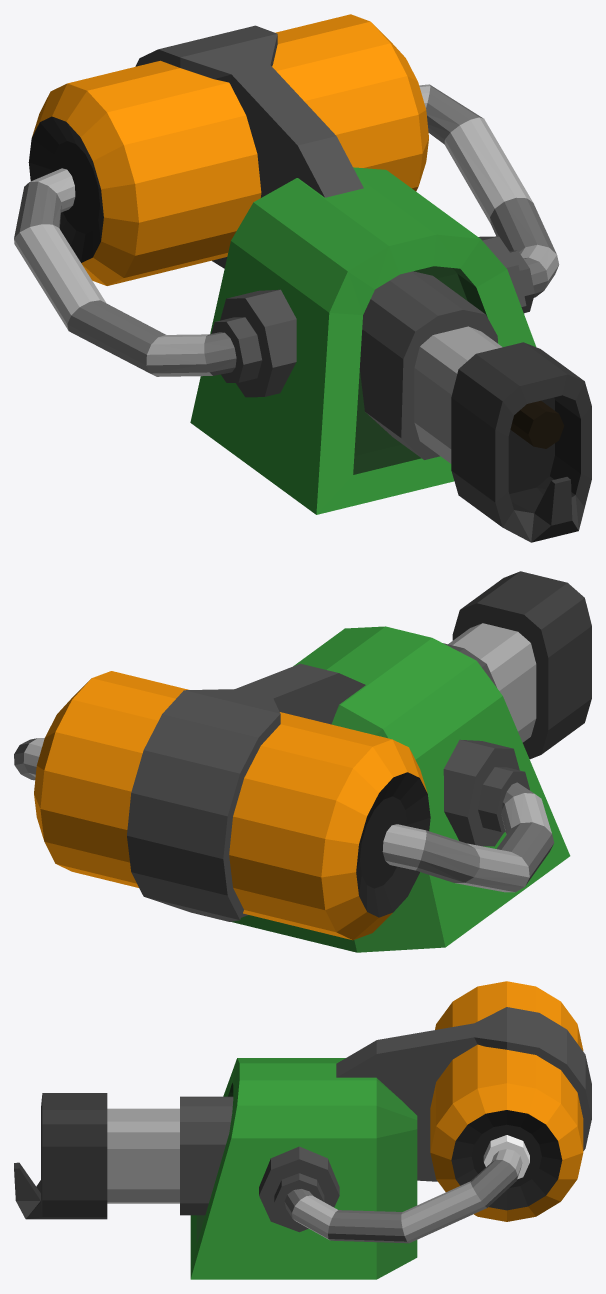
The model's file is flame_cannon.fbx.
The picture shows the model from 3 angles, top to bottom: view 1: azimuth 30°, elevation 25°; view 2: azimuth 150°, elevation 25°; view 3: azimuth 270°, elevation 25°; orthographic projection. The views are drawn at different scales.
Parts seen in each view (by area): view 1: Cylinder.016, Cube.035, Cube.040, Cube.038, Cylinder.017, Cylinder.015, Cylinder.018; view 2: Cylinder.016, Cube.035, Cylinder.017, Cube.040, Cube.038, Cylinder.015; view 3: Cube.035, Cylinder.016, Cube.040, Cylinder.017, Cube.038, Cylinder.015, Cylinder.002.
Part boxes in pixels (x1,y1,x2,y2): Cylinder.016: [28, 14, 428, 285]; Cube.035: [190, 167, 536, 514]; Cube.040: [359, 271, 591, 542]; Cube.038: [14, 84, 559, 376]; Cylinder.017: [135, 25, 363, 268]; Cylinder.015: [211, 236, 534, 397]; Cylinder.018: [510, 400, 564, 448]; Cylinder.016: [34, 671, 430, 940]; Cube.035: [231, 626, 570, 952]; Cylinder.017: [127, 663, 365, 921]; Cube.040: [443, 571, 591, 759]; Cube.038: [14, 738, 554, 892]; Cylinder.015: [443, 739, 529, 846]; Cube.035: [190, 1058, 417, 1279]; Cylinder.016: [430, 981, 583, 1221]; Cube.040: [14, 1093, 233, 1219]; Cylinder.017: [336, 1007, 591, 1181]; Cube.038: [284, 1149, 522, 1243]; Cylinder.015: [259, 1146, 339, 1232]; Cylinder.002: [483, 1135, 529, 1179].
Bounding box in the file's own units: 121 × 69.15 × 174.
